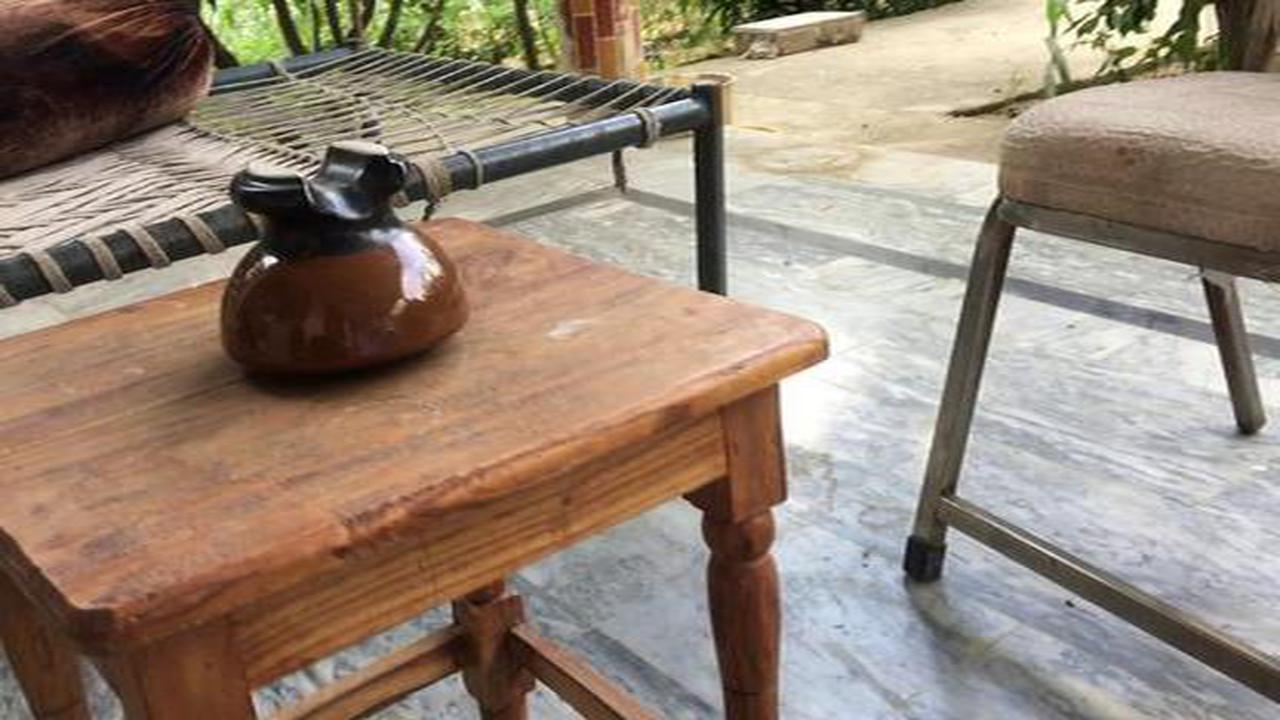insulator_pin: (194, 134, 484, 388)
